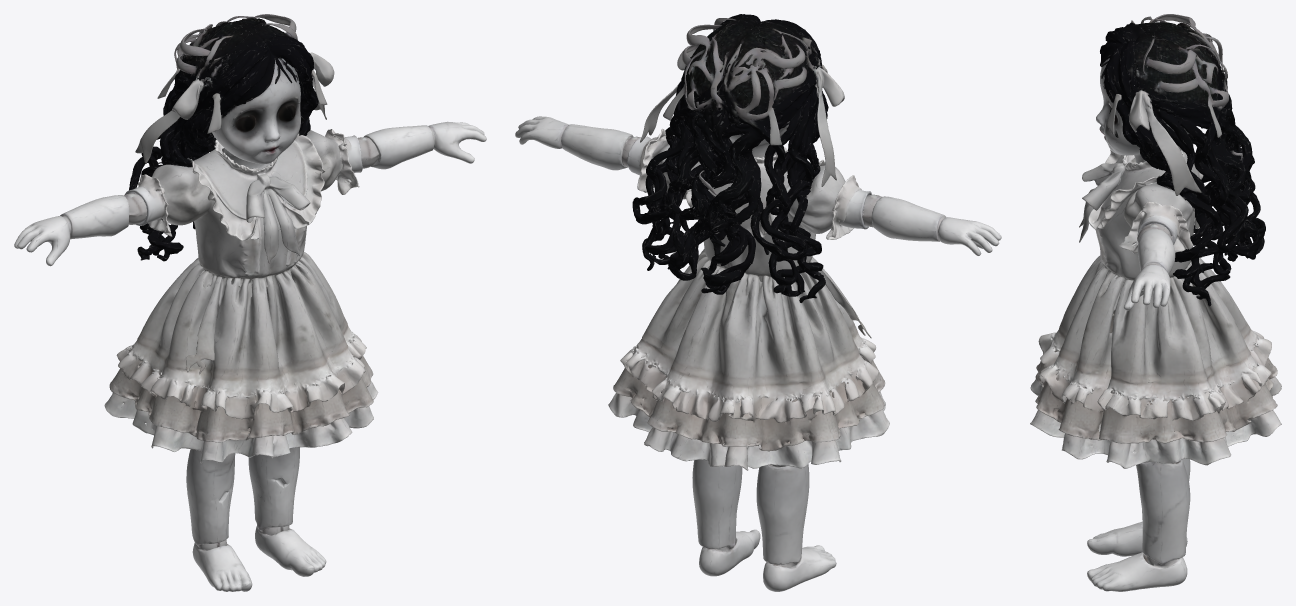
File: buna.glb
The picture shows the model from 3 angles, left to right: view 1: azimuth 30°, elevation 25°; view 2: azimuth 150°, elevation 25°; view 3: azimuth 270°, elevation 25°; orthographic projection. The views are drawn at different scales.
Visible parts, largest first — view 1: world; view 2: world; view 3: world.
Part boxes in pixels (x1,y1,x2,y2): world: (14,14,486,591); world: (515,14,1001,591); world: (1030,14,1281,591).
Size of the model in its own units: 0.9101 by 1 by 0.4223.
1 material, 1 textured.
